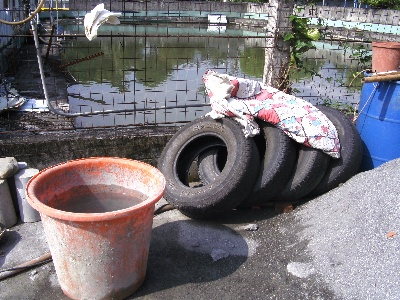bowl: (370, 40, 400, 76)
bucket: (27, 154, 166, 300), (356, 70, 400, 169)
tire: (160, 113, 260, 217)
